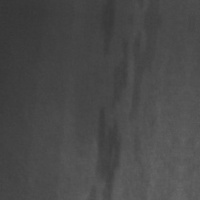inclusion: (88, 27, 131, 199), (123, 20, 166, 192), (94, 17, 119, 62)
